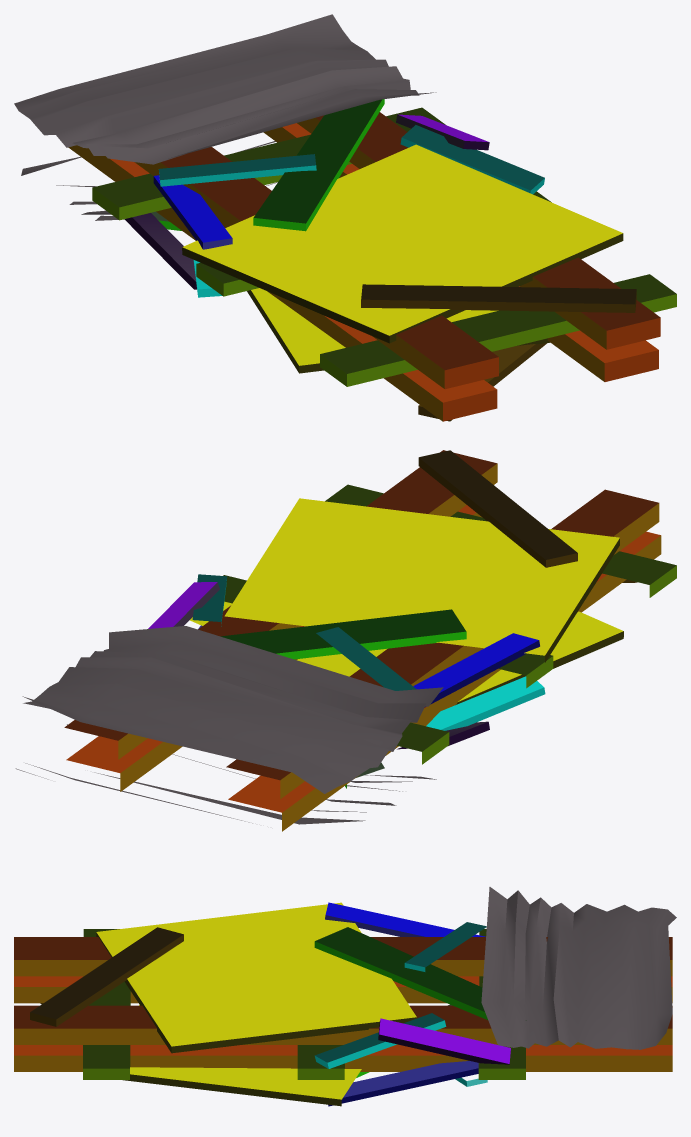
The model's file is Wall_1.gltf.
The picture shows the model from 3 angles, top to bottom: view 1: azimuth 30°, elevation 25°; view 2: azimuth 150°, elevation 25°; view 3: azimuth 270°, elevation 25°; orthographic projection. The views are drawn at different scales.
Visible parts, largest first — view 1: Wall_1; view 2: Wall_1; view 3: Wall_1.
Part boxes in pixels (bbox=[...]): Wall_1: bbox=[14, 14, 676, 421]; Wall_1: bbox=[15, 450, 676, 831]; Wall_1: bbox=[14, 887, 676, 1106].
Bounding box in the file's own units: 1100 × 321 × 2004.
